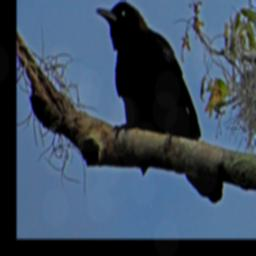Crow: (95, 2, 224, 205)
